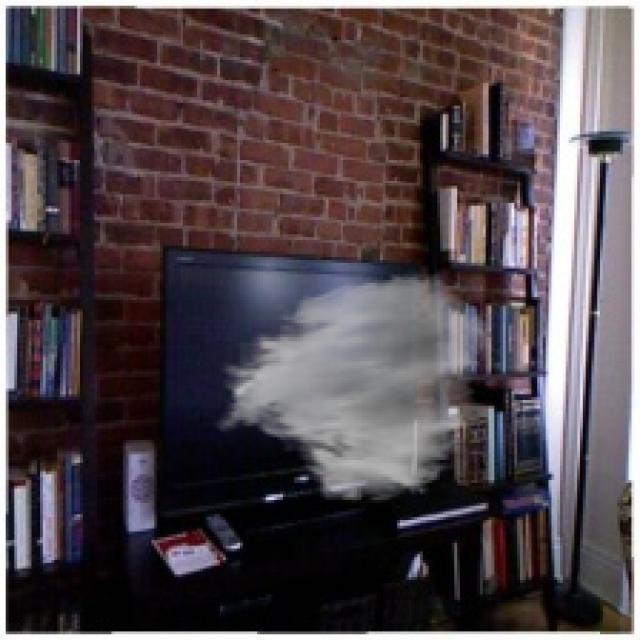smoke: (212, 271, 494, 506)
